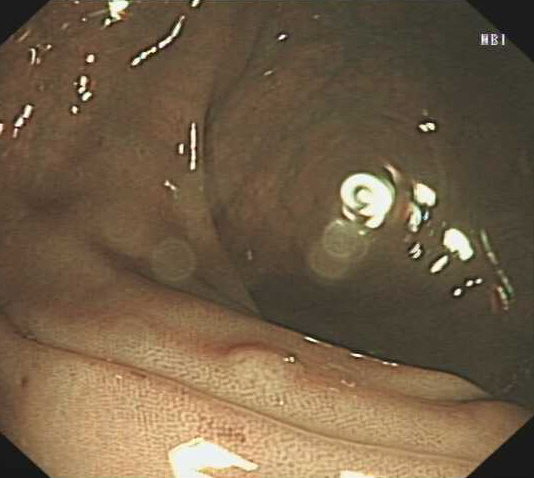others: (224, 338, 309, 393)
